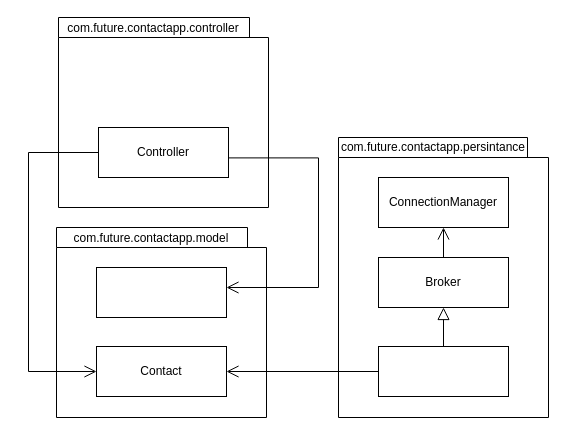
Image size: 566x435. Some labels were removed from this diagram. The centre of each missing label's shape, as x and y in pixels:
ContactBroker: the point at 443,371
Model: the point at 161,292
